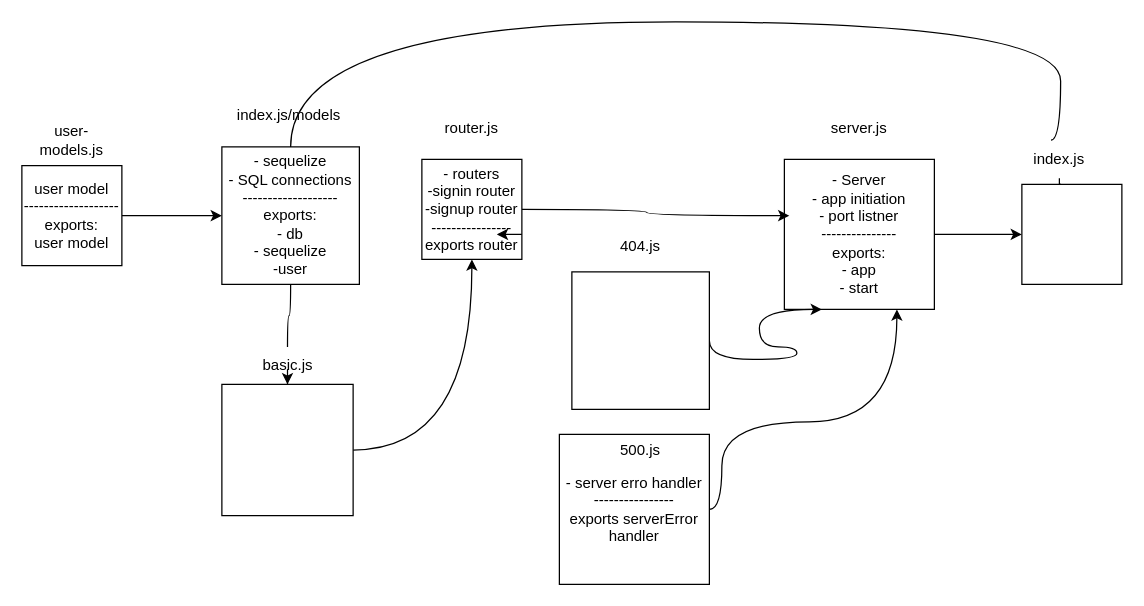
The diagram is 1144 pixels wide and 606 high, and some of its shapes have lost their labels. Here are the shapes that lost their labels. From the top down, the centre of each, then its label:
At point 1071,233: "- starts server - starts database".
At point 640,340: "-Not found error handler ---------------- exports noFound handler".
At point 287,449: "- basic auth middleware ---------------- export basicAuth".
